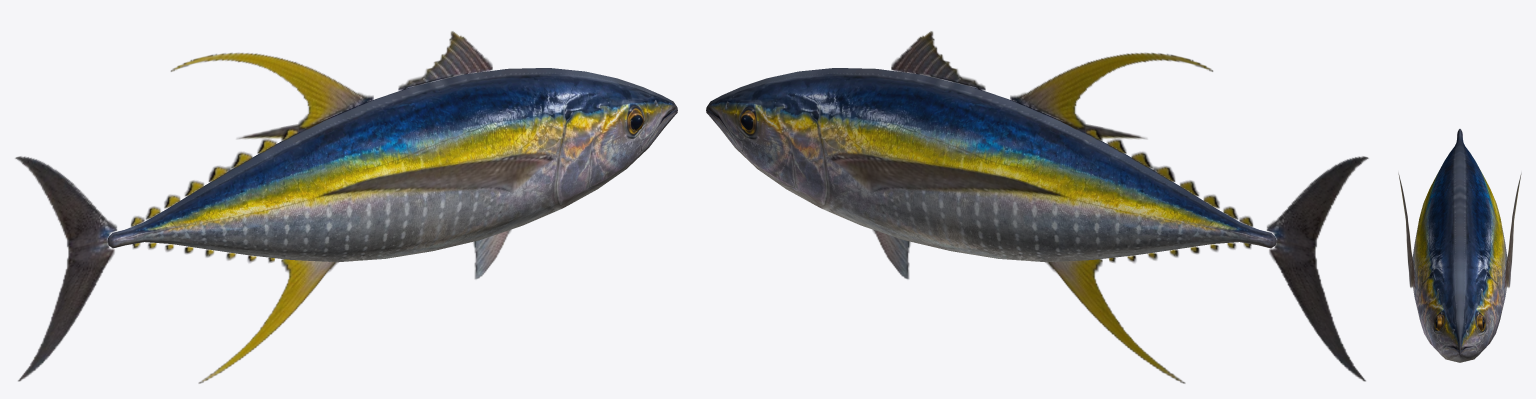
File: kihada_lo.glb
The picture shows the model from 3 angles, left to right: view 1: azimuth 30°, elevation 25°; view 2: azimuth 150°, elevation 25°; view 3: azimuth 270°, elevation 25°; orthographic projection. The views are drawn at different scales.
Parts seen in each view (by area): view 1: kihada; view 2: kihada; view 3: kihada.
Part boxes in pixels (x1,y1,x2,y2): kihada: (15, 31, 677, 383); kihada: (706, 31, 1368, 383); kihada: (1398, 129, 1521, 362).
Size of the model in its own units: 1 by 0.4728 by 0.2096.
1 material, 1 textured.
